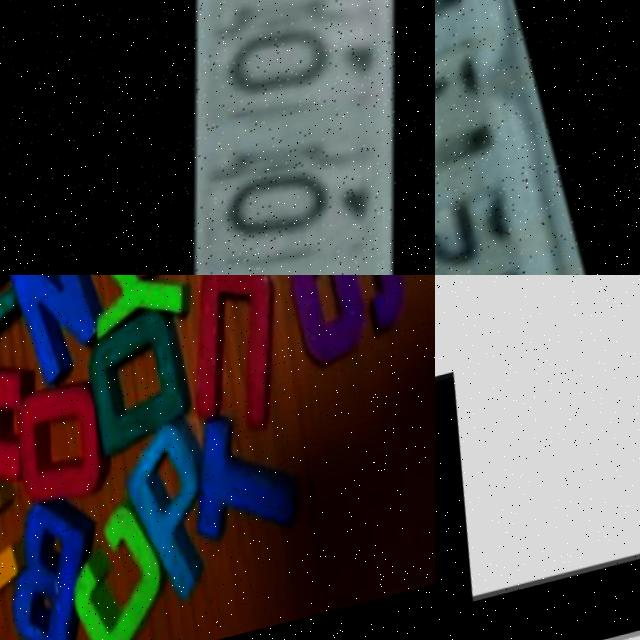0: (210, 11, 350, 124), (216, 163, 350, 264)
1: (435, 49, 480, 172)
2: (435, 199, 505, 275)
A: (0, 362, 38, 479)
B: (5, 496, 123, 640)
C: (66, 506, 195, 640)
D: (82, 308, 212, 454)
E: (435, 386, 640, 640)
N: (4, 275, 119, 378)
O: (14, 384, 126, 512)
P: (118, 416, 241, 616)
R: (0, 483, 46, 628)
S: (274, 275, 421, 365)
T: (196, 414, 315, 545)
U: (178, 275, 308, 436)
Y: (80, 275, 205, 348)
